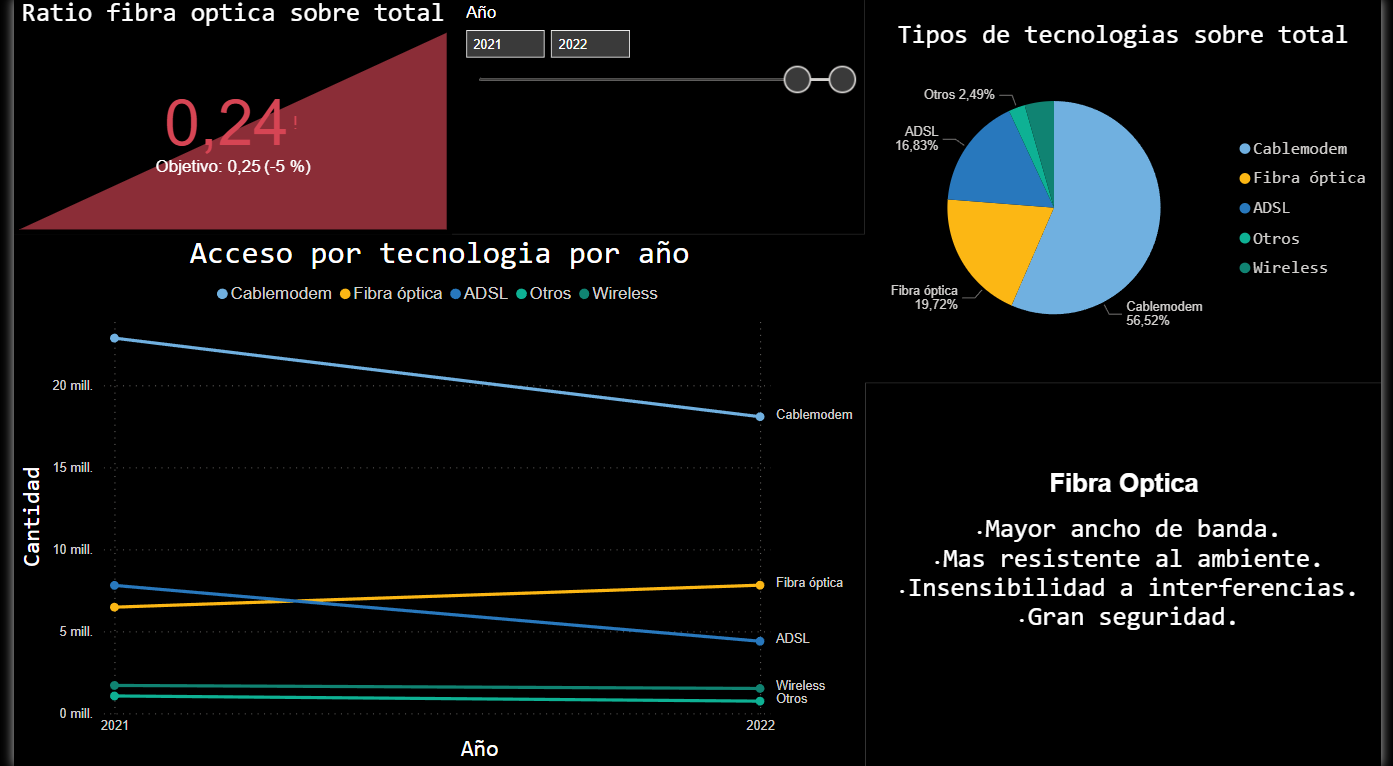

What the dashboard file says about the page in this screenshot:
{"tool":"powerbi","page":{"name":"Page 2","canvas":[1280,720],"ordinal":2},"visuals":[{"type":"lineChart","title":"Acceso por tecnologia por año","fields":{"Category":["KPI_3_Internet_Accesos-por-tecnologiaPROV.Año"],"Y":["Sum(KPI_3_Internet_Accesos-por-tecnologiaPROV.Cablemodem)","Sum(KPI_3_Internet_Accesos-por-tecnologiaPROV.Fibra óptica)","Sum(KPI_3_Internet_Accesos-por-tecnologiaPROV.ADSL)","Sum(KPI_3_Internet_Accesos-por-tecnologiaPROV.Otros)","Sum(KPI_3_Internet_Accesos-por-tecnologiaPROV.Wireless)"]},"box":[0,221.7,796.7,498.3],"z":0},{"type":"slicer","fields":{"Values":["KPI_3_Internet_Accesos-por-tecnologiaPROV.Año"]},"box":[410.3,0,386.1,221.1],"z":1000},{"type":"pieChart","title":"Tipos de tecnologias sobre total","fields":{"Y":["Sum(KPI_3_Internet_Accesos-por-tecnologiaPROV.Cablemodem)","Sum(KPI_3_Internet_Accesos-por-tecnologiaPROV.Fibra óptica)","Sum(KPI_3_Internet_Accesos-por-tecnologiaPROV.ADSL)","Sum(KPI_3_Internet_Accesos-por-tecnologiaPROV.Otros)","Sum(KPI_3_Internet_Accesos-por-tecnologiaPROV.Wireless)"]},"box":[796.7,0,483.3,360],"z":2000},{"type":"kpi","title":"Ratio fibra optica sobre total","fields":{"Indicator":["KPI_3_Internet_Accesos-por-tecnologiaPROV.objetive"],"TrendLine":["KPI_3_Internet_Accesos-por-tecnologiaPROV.Año"],"Goal":["KPI_3_Internet_Accesos-por-tecnologiaPROV.mesure"]},"box":[0,0,410,221.7],"z":3000},{"type":"textbox","box":[797,360,483,360],"z":4000}]}

Visuals, with their boxes in screenshot pixels (x1, y1, x2, y2), scaled from the page's 1280x720 canvas onto the 1393x766 screenshot:
"Acceso por tecnologia por año" lineChart: x1=0 y1=236 x2=867 y2=765
slicer - KPI_3_Internet_Accesos-por-tecnologiaPROV.Año: x1=447 y1=0 x2=867 y2=235
"Tipos de tecnologias sobre total" pieChart: x1=867 y1=0 x2=1392 y2=383
"Ratio fibra optica sobre total" kpi: x1=0 y1=0 x2=446 y2=236
textbox: x1=867 y1=383 x2=1392 y2=765
